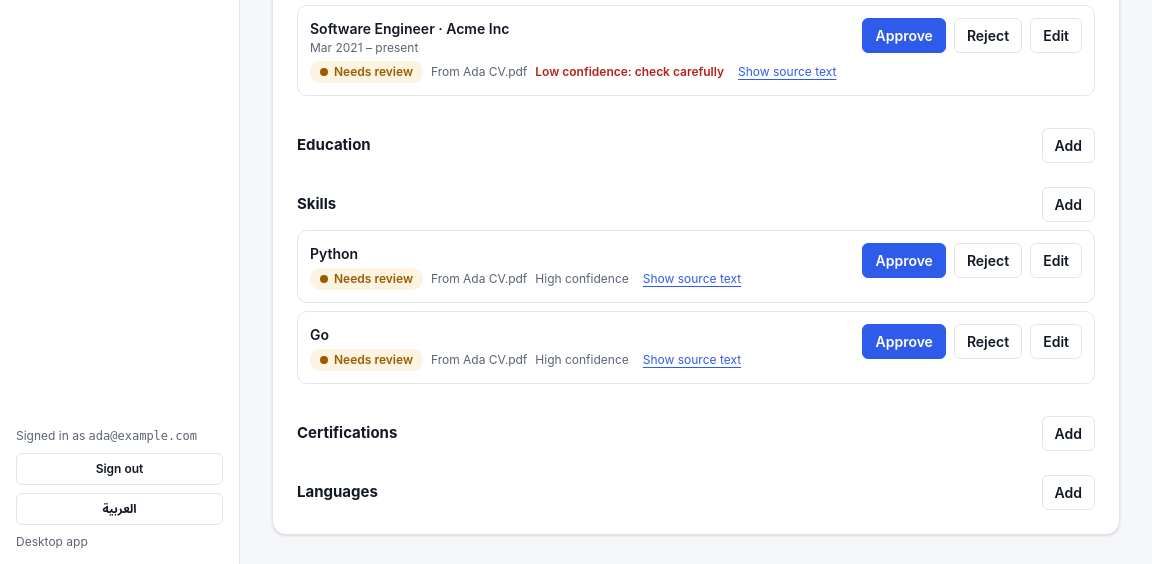
it: career profile: review › adds and deletes a fact entered by hand
(page scrolled)
Check: the element with test id "signed-in-user" is shown, box [16,427,223,445]
Click the button with aria-label "Add: Skills" at (1068, 204), box [1042,187,1095,222]
(page scrolled)
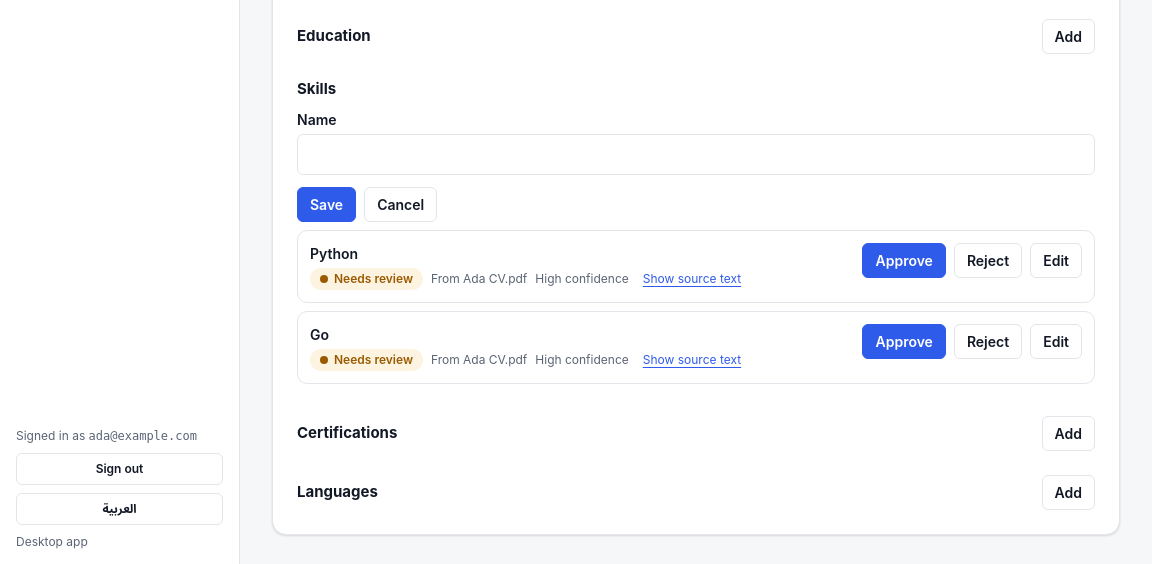
Type "Kubernetes" into the field labelled "Name" at (696, 154), box [297,134,1095,174]
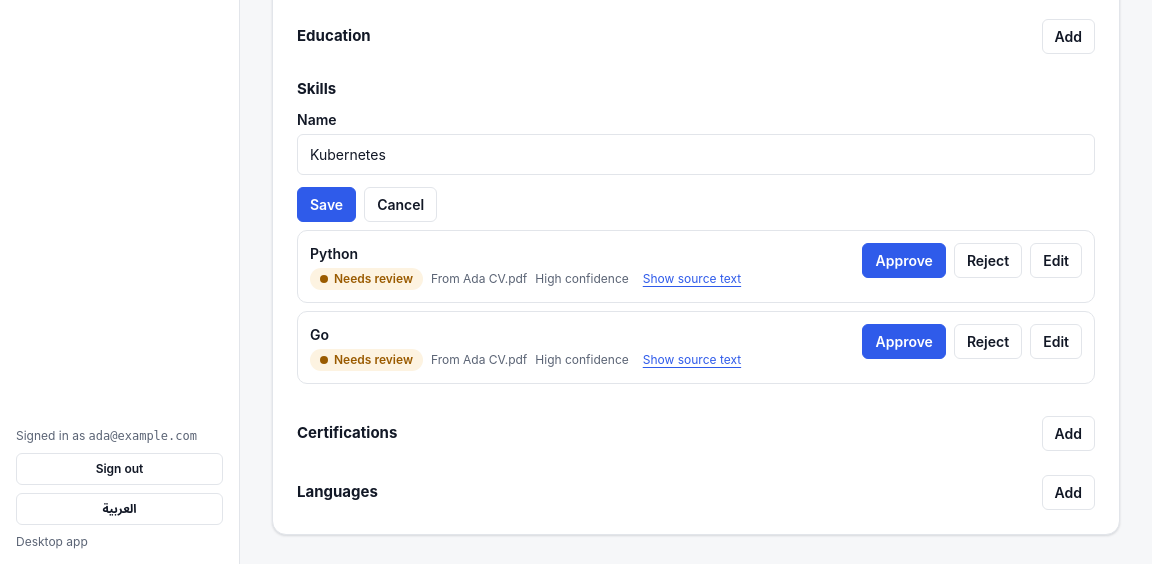
Click the button "Save" at (327, 204), box [297,186,356,222]
(page scrolled)
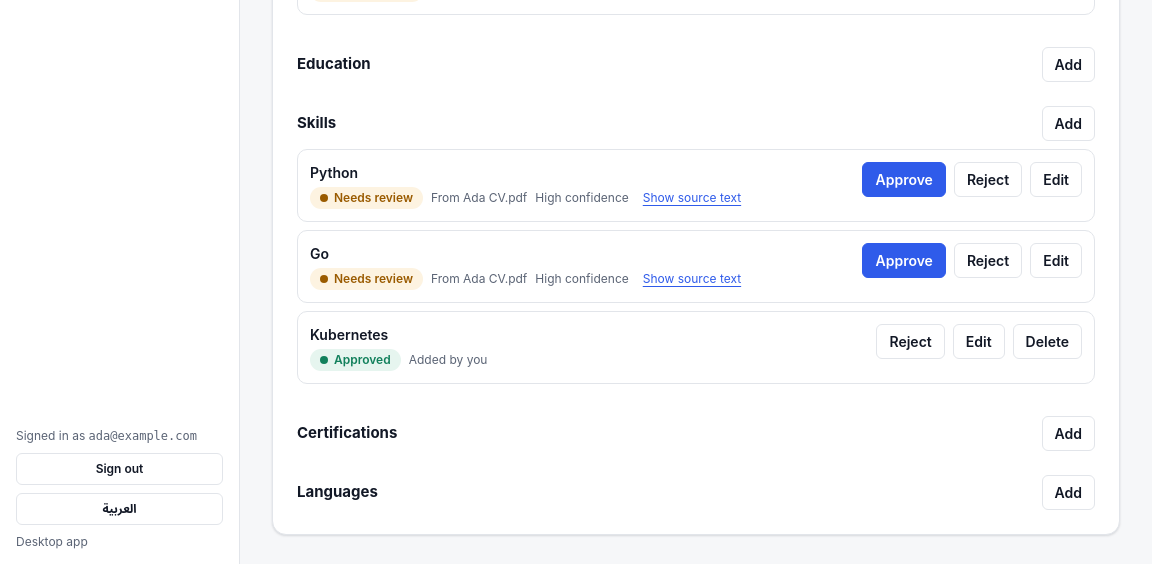
Check: the text "Kubernetes" is shown, box [310,326,388,343]
Check: the text "Added by you" is shown once, box [409,351,487,369]
Click the button with aria-label "Delete: Kubernetes" at (1047, 342), box [1013,324,1082,359]
(page scrolled)
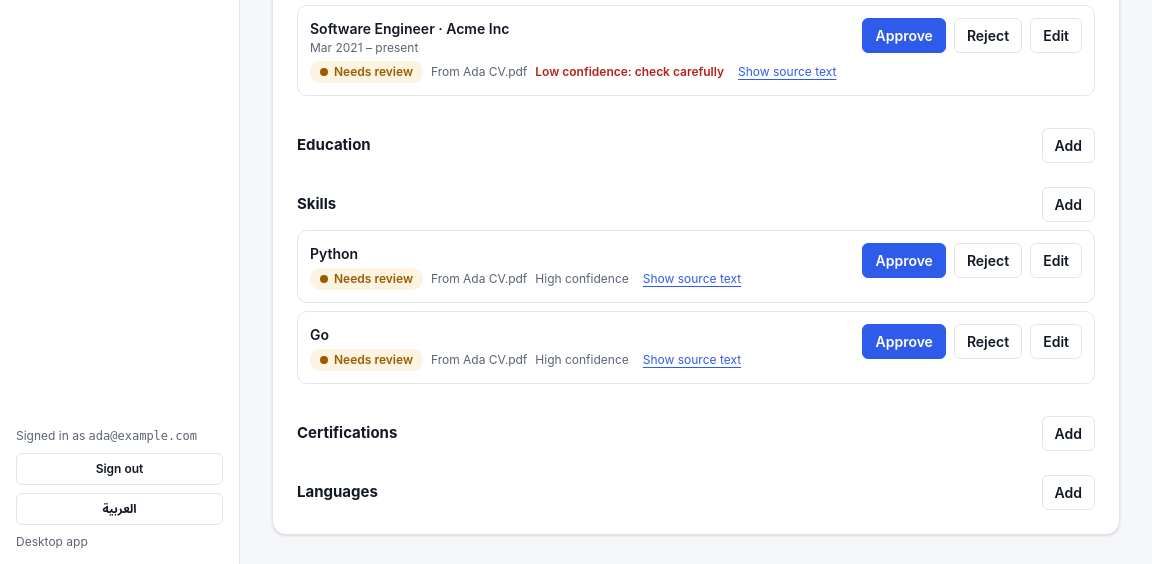
Check: the text "Kubernetes" is gone
